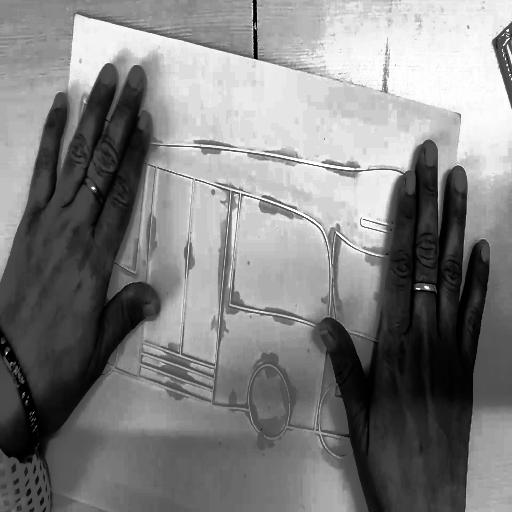bus: (0, 50, 512, 494)
top_left: (72, 10, 78, 20)
top_right: (453, 103, 465, 122)
